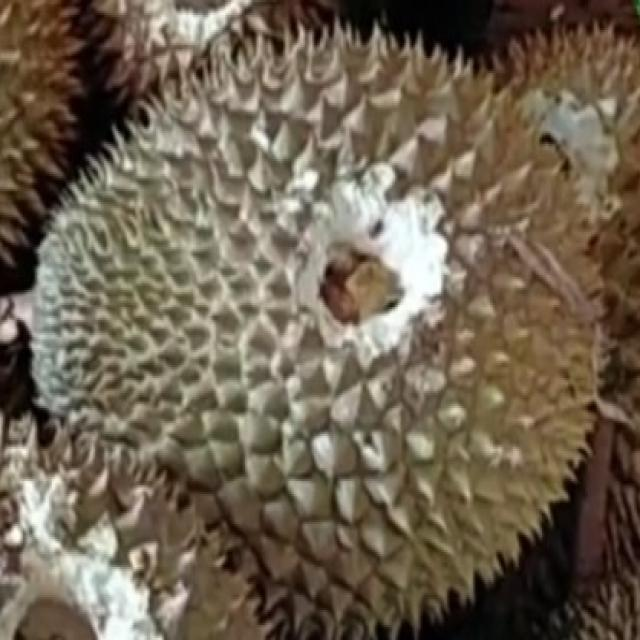defective: (21, 16, 617, 630)
